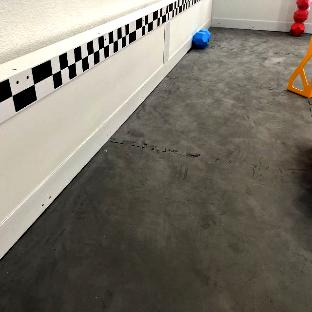V5_BLUE: (193, 29, 210, 48)
